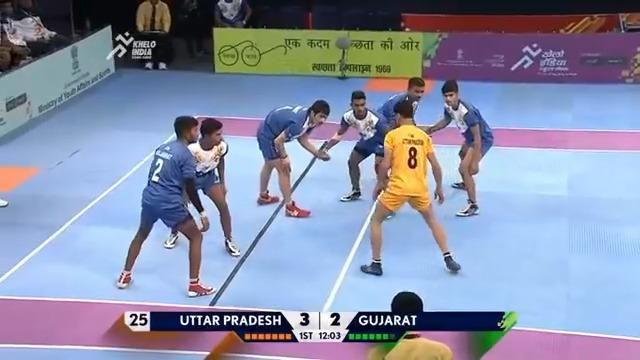Player: (116, 114, 216, 297), (162, 117, 240, 256), (416, 78, 494, 216), (255, 98, 330, 217), (318, 89, 391, 202), (372, 76, 426, 219), (375, 76, 425, 130)
Raider: (359, 99, 461, 275)
referee: (134, 0, 172, 70), (176, 0, 209, 58), (135, 0, 171, 33)
